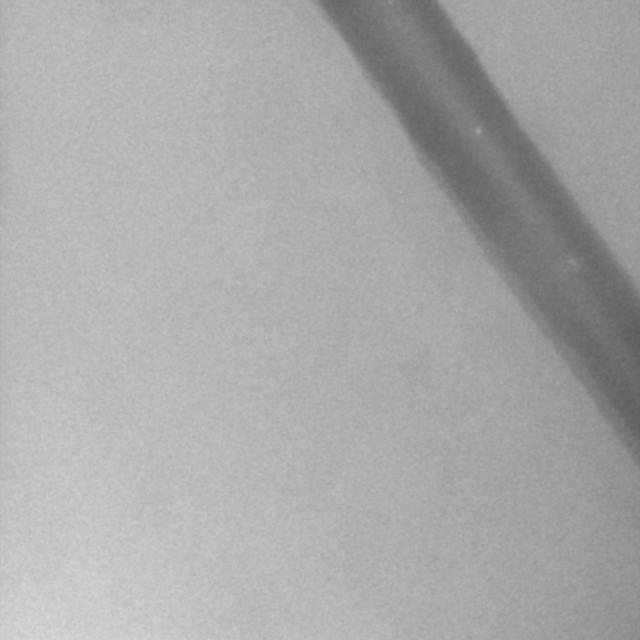air hole: (474, 125, 482, 137)
